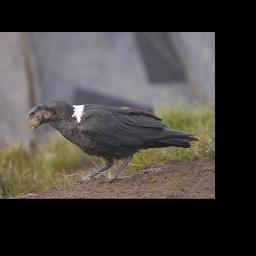Crow: (27, 96, 202, 186)
